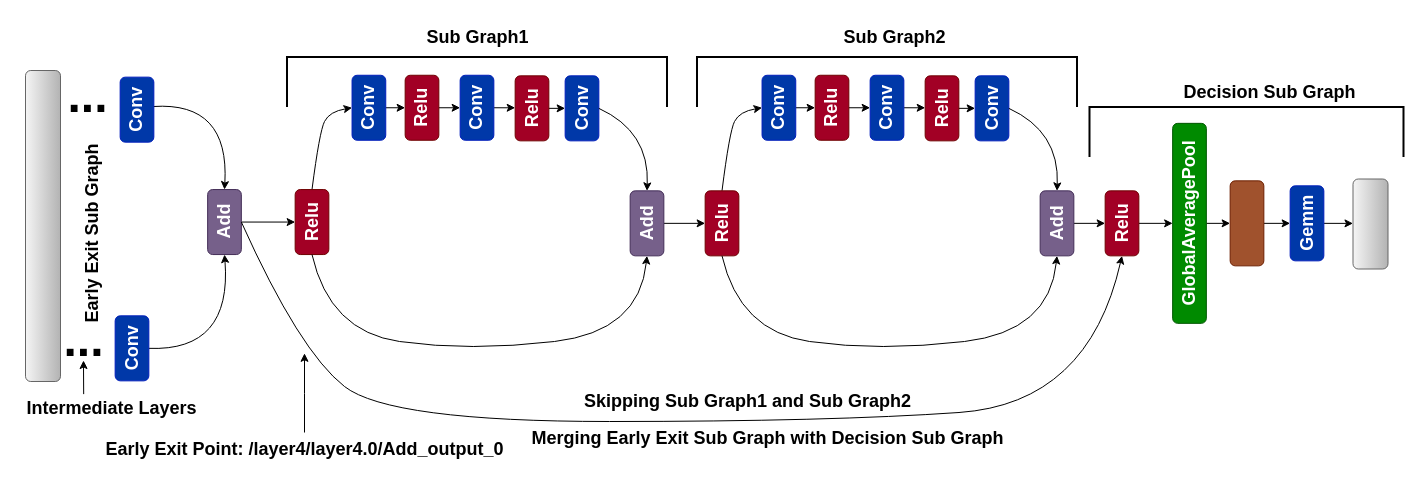
The diagram is 1421 pixels wide and 484 high, and some of its shapes have lost their labels. The shapes that lost their labels are listed below. From the top down, each one's centre as x and y in pixels, then its label:
At (42,226): "Input".
At (1246,223): "Flatten".
At (1370,223): "Output".
